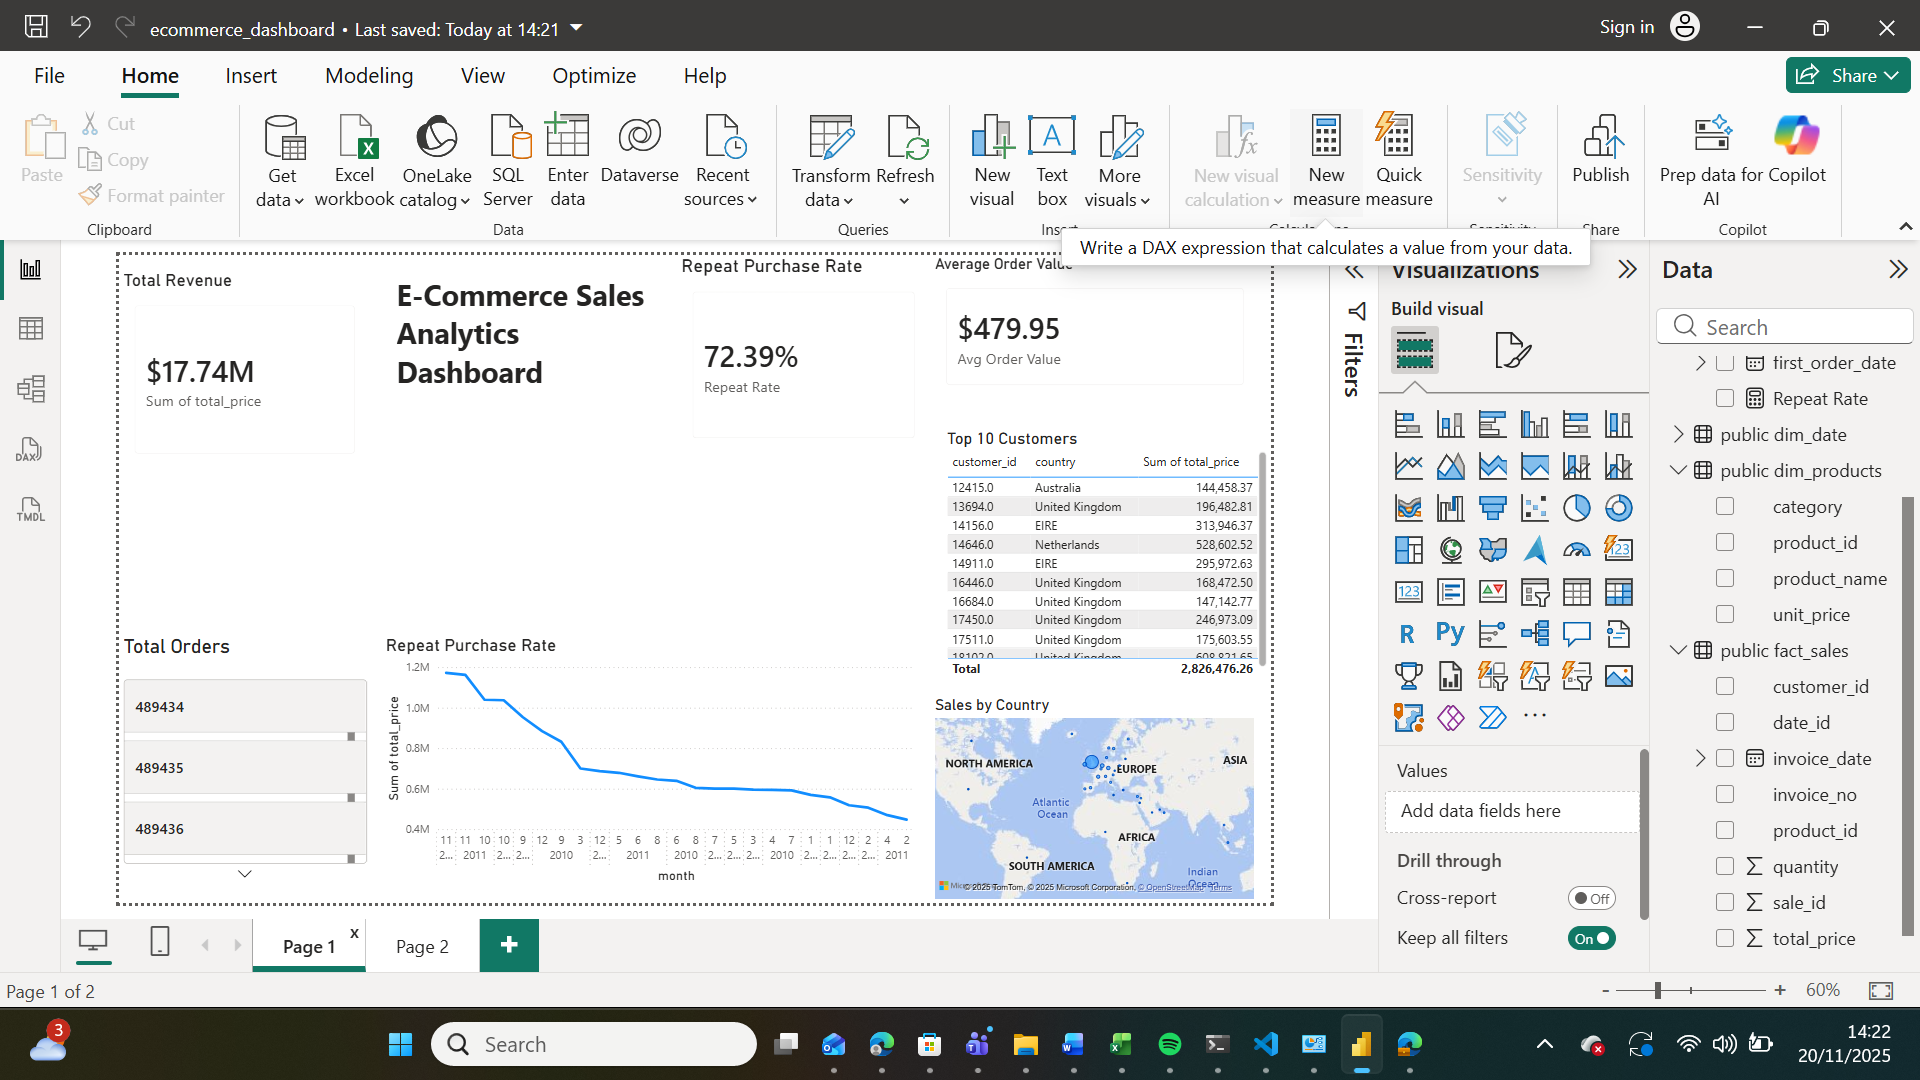

Layout of this report page (visuals, bound fields, positions):
{"tool":"powerbi","page":{"name":"Page 1","canvas":[1280,720],"ordinal":0},"visuals":[{"type":"cardVisual","title":"Total Revenue","fields":{"Data":["Sum(public fact_sales.total_price)"]},"box":[0,17,279.7,221.1],"z":0},{"type":"cardVisual","title":"Total Orders","fields":{"Rows":["public fact_sales.invoice_no"]},"box":[0,421.7,280,281.7],"z":1000},{"type":"cardVisual","title":"Repeat Purchase Rate","fields":{"Data":["public dim_customers.Repeat Rate"]},"box":[619.8,0,281.6,221.1],"z":2000},{"type":"lineChart","title":"Repeat Purchase Rate","fields":{"Category":["public dim_date.year","public dim_date.month"],"Y":["Sum(public fact_sales.total_price)"]},"box":[291.7,421.7,596.7,280],"z":3000},{"type":"tableEx","title":"Top 10 Customers","fields":{"Values":["public dim_customers.customer_id","public dim_customers.country","Sum(public fact_sales.total_price)"]},"box":[915,193.3,365,280],"z":4000},{"type":"map","title":"Sales by Country","fields":{"Category":["public dim_customers.country"],"Size":["Sum(public fact_sales.total_price)"]},"box":[901.7,490,365,230],"z":5000},{"type":"textbox","box":[304,17,316,221],"z":6000},{"type":"cardVisual","title":"Average Order Value","fields":{"Data":["public dim_customers.Avg Order Value"]},"box":[901.7,0,365,161.7],"z":6001}]}

Visuals, with their boxes on the page's 1280x720 design canvas (x1, y1, x2, y2). These are canvas units, not pixel positions in the 1920x1080 screenshot, which may show the page scaled, cropped or inside an application window:
"Total Revenue" cardVisual: pyautogui.locateOnScreen(0, 17, 280, 238)
"Total Orders" cardVisual: pyautogui.locateOnScreen(0, 422, 280, 703)
"Repeat Purchase Rate" cardVisual: pyautogui.locateOnScreen(620, 0, 901, 221)
"Repeat Purchase Rate" lineChart: pyautogui.locateOnScreen(292, 422, 888, 702)
"Top 10 Customers" tableEx: pyautogui.locateOnScreen(915, 193, 1280, 473)
"Sales by Country" map: pyautogui.locateOnScreen(902, 490, 1267, 720)
textbox: pyautogui.locateOnScreen(304, 17, 620, 238)
"Average Order Value" cardVisual: pyautogui.locateOnScreen(902, 0, 1267, 162)
